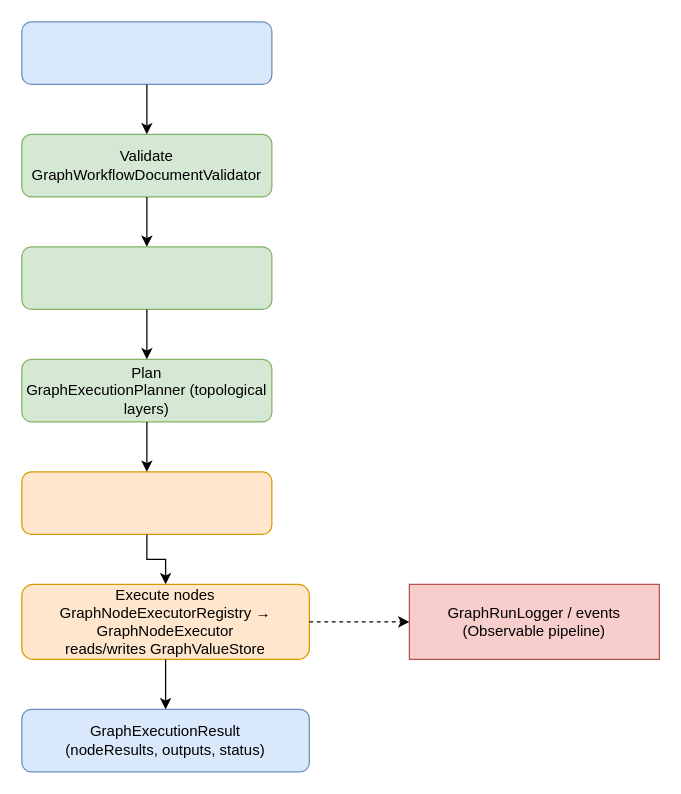
The diagram is 681 pixels wide and 794 high, and some of its shapes have lost their labels. The centre of each missing label's shape, as x and y in pixels:
"Caller engine.execute(document, inputs)" belongs at point (146, 52).
"Resolve GraphNodeManifestResolver" belongs at point (146, 277).
"Run lifecycle GraphRunService / GraphRunExecutor" belongs at point (146, 502).
